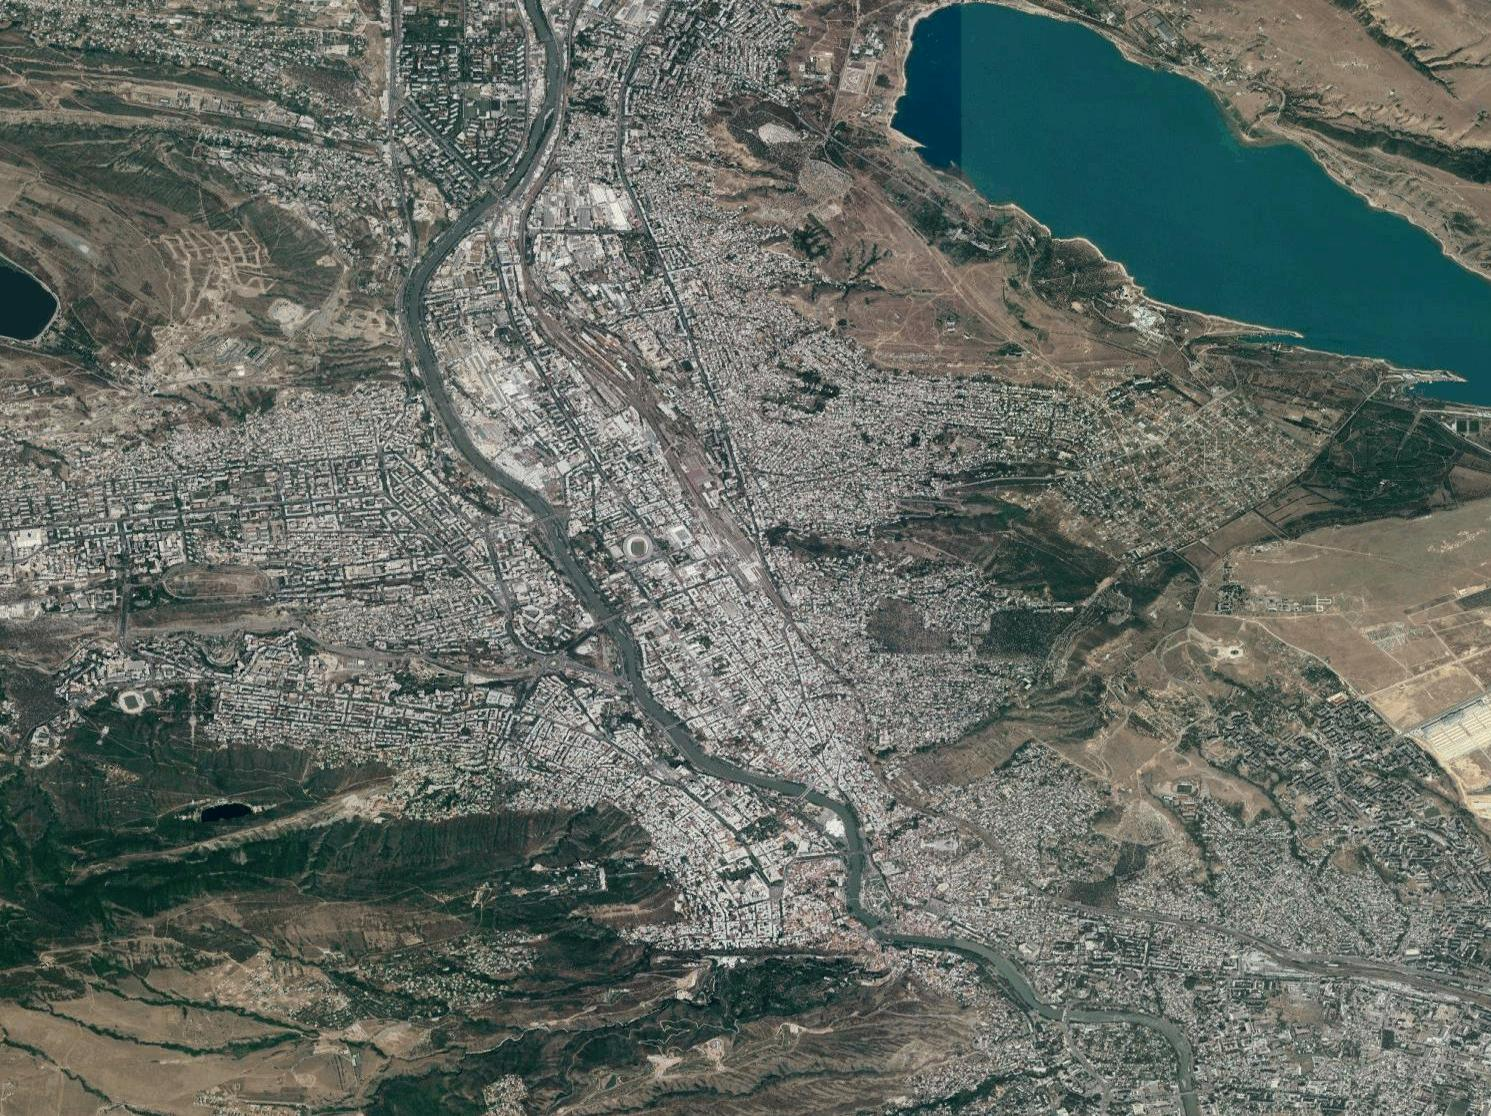bridge: (663, 717, 683, 731), (537, 512, 556, 526), (598, 614, 617, 628), (796, 784, 815, 798), (844, 842, 863, 856), (488, 188, 508, 200)
train_station: (737, 552, 768, 584)
